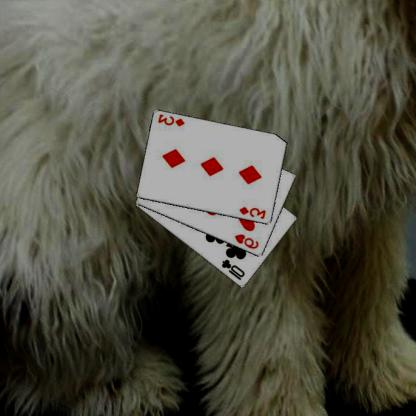10C: (221, 257, 248, 281)
3D: (238, 204, 269, 220), (158, 112, 188, 127)
6H: (234, 232, 262, 250)
